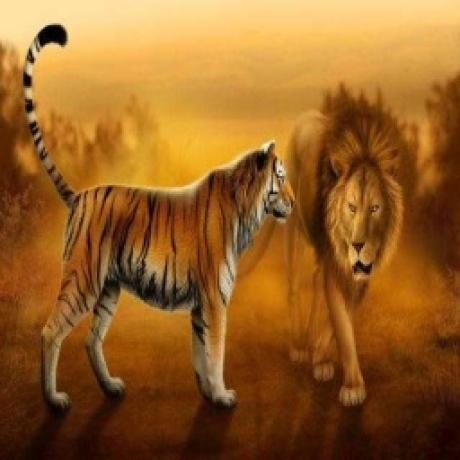Lion: (286, 84, 411, 410)
